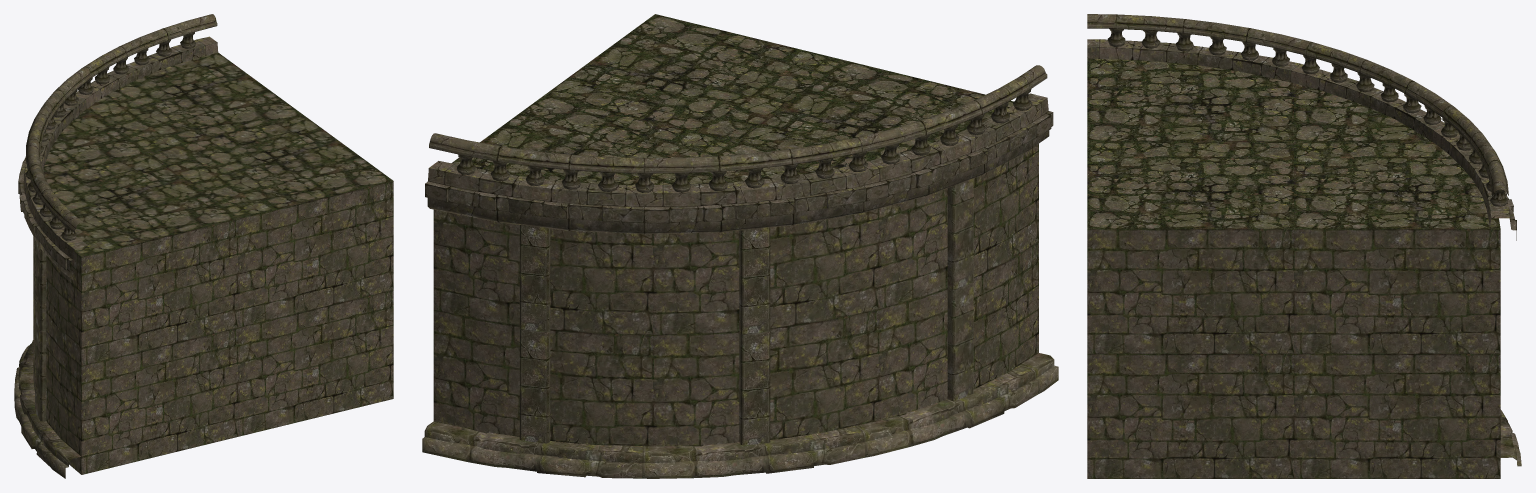
File: Base_Rounded_Preset_03_c-transformed.glb
3 renders of one model, left to right at view 1: azimuth 30°, elevation 25°; view 2: azimuth 150°, elevation 25°; view 3: azimuth 270°, elevation 25°, orthographic. The views are drawn at different scales.
Parts seen in each view (by area): view 1: default; view 2: default; view 3: default.
Boxes of the visible parts, x1,y1,x2,y2 form: default: [14, 14, 393, 478]; default: [422, 14, 1058, 478]; default: [1087, 14, 1521, 478].
Size of the model in its own units: 12.62 by 9.27 by 12.62.
4 materials, 4 textured.
